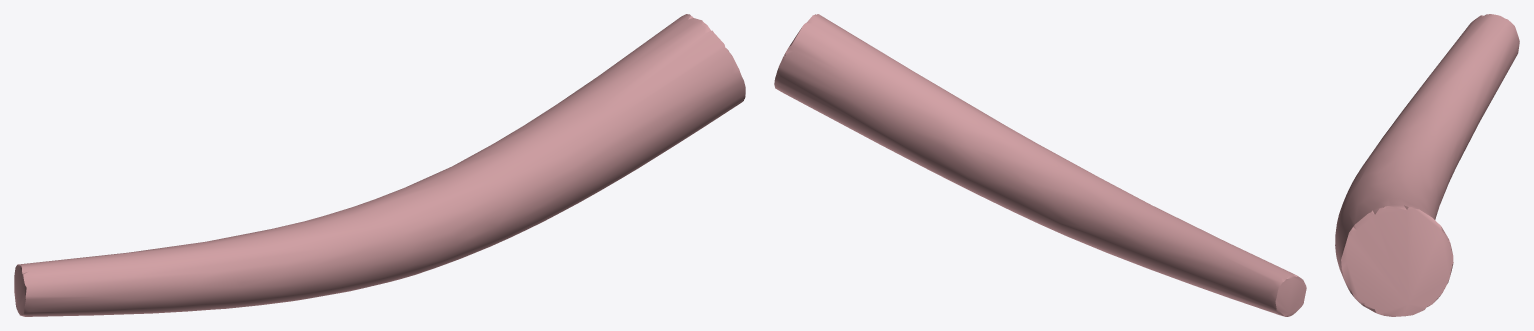
File: fma68220_fj2491.glb
3 renders of one model, left to right at view 1: azimuth 30°, elevation 25°; view 2: azimuth 150°, elevation 25°; view 3: azimuth 270°, elevation 25°, orthographic. The views are drawn at different scales.
Visible parts, largest first — view 1: FMA68220_FJ2491; view 2: FMA68220_FJ2491; view 3: FMA68220_FJ2491.
Part boxes in pixels (x1=…): FMA68220_FJ2491: x1=14, y1=14, x2=745, y2=316; FMA68220_FJ2491: x1=774, y1=14, x2=1306, y2=316; FMA68220_FJ2491: x1=1335, y1=14, x2=1519, y2=316.
Size of the model in its own units: 0.0365 by 0.00983 by 0.00818.
